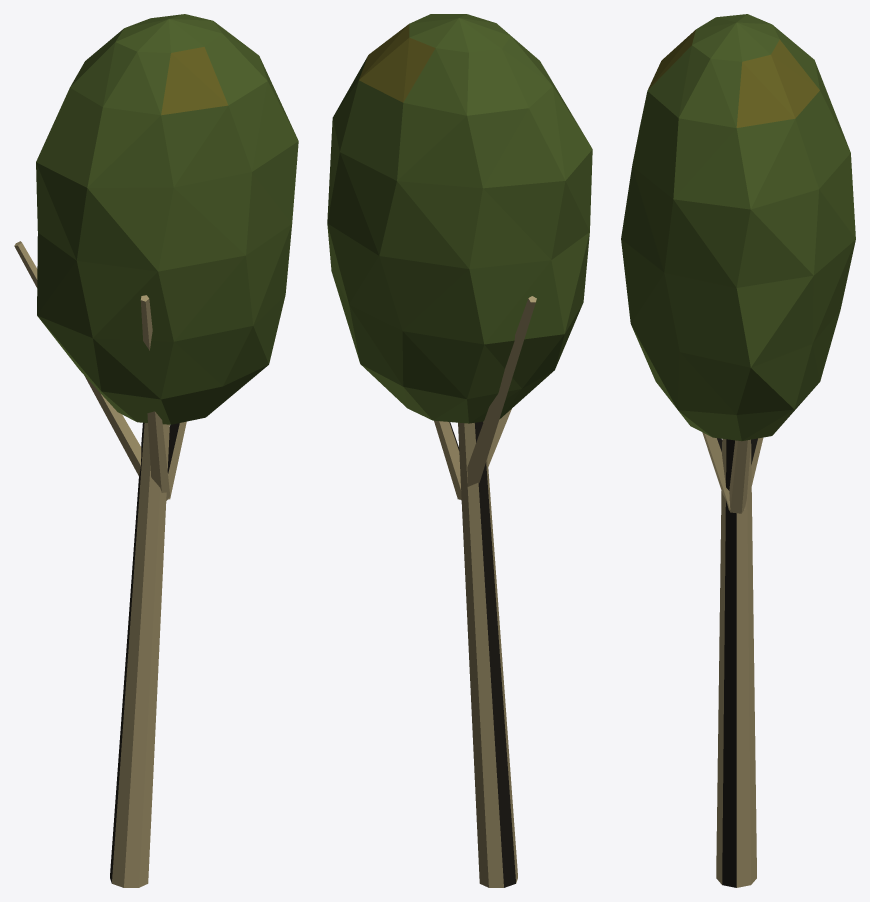
Rendered from Tree_Birch_01.fbx.
The picture shows the model from 3 angles, left to right: view 1: azimuth 30°, elevation 25°; view 2: azimuth 150°, elevation 25°; view 3: azimuth 270°, elevation 25°; orthographic projection. The views are drawn at different scales.
Visible parts, largest first — view 1: Tree_Birch_01_Foliage, Tree_Birch_01_Trunk; view 2: Tree_Birch_01_Foliage, Tree_Birch_01_Trunk; view 3: Tree_Birch_01_Foliage, Tree_Birch_01_Trunk.
Part boxes in pixels (<box>): Tree_Birch_01_Foliage: <box>36,14,298,424</box>; Tree_Birch_01_Trunk: <box>14,241,186,887</box>; Tree_Birch_01_Foliage: <box>327,14,592,423</box>; Tree_Birch_01_Trunk: <box>434,296,536,887</box>; Tree_Birch_01_Foliage: <box>621,14,855,441</box>; Tree_Birch_01_Trunk: <box>702,432,763,887</box>.
Bounding box in the file's own units: 1.5 × 5.11 × 1.24.
1 material, 1 textured.
